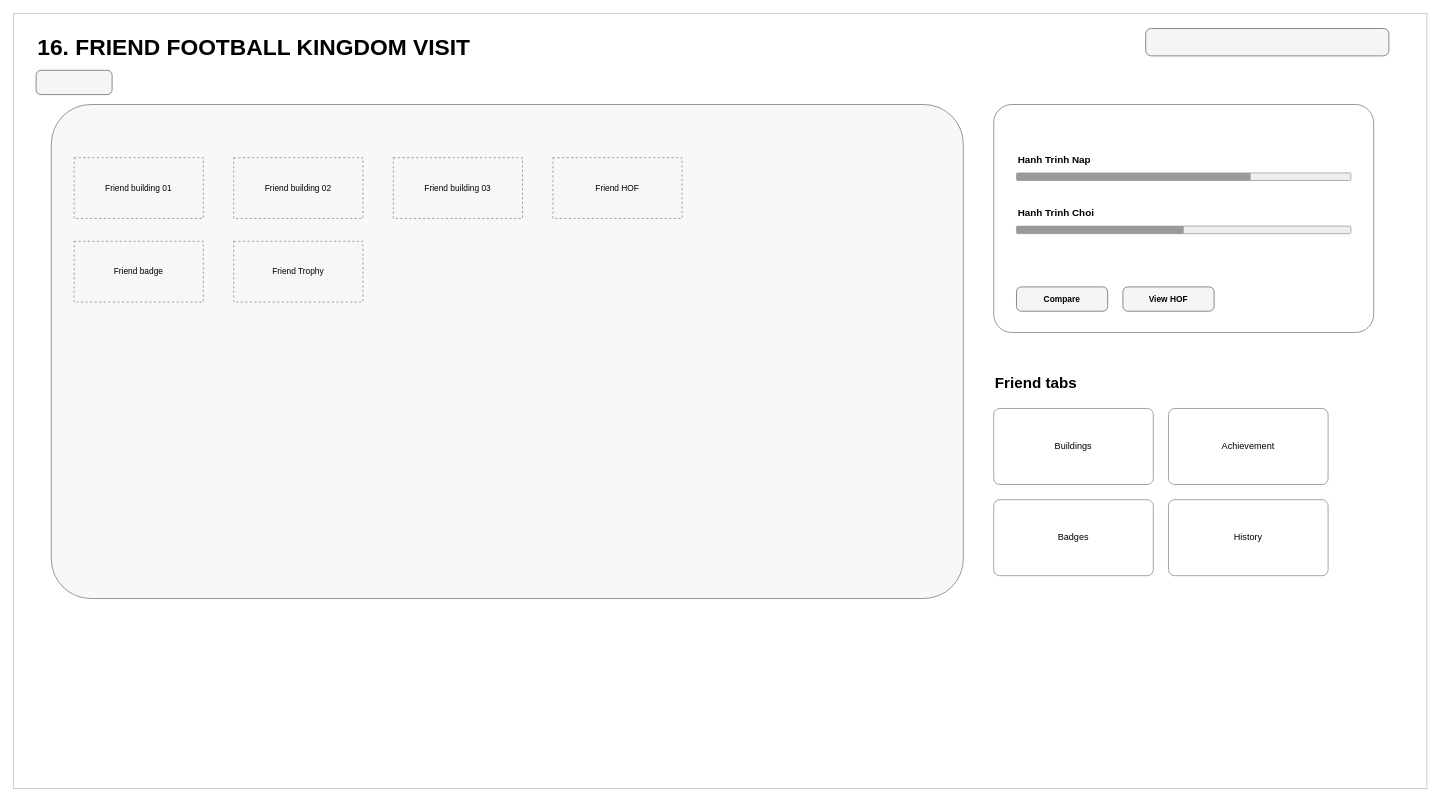
The diagram is 1440 pixels wide and 802 high, and some of its shapes have lost their labels. The box of each missing label's shape, as (x1, y1, x2, y2) in pixels:
Friend Profile Summary: (993, 104, 1374, 332)
Khu Phuc Hop Ban Be - read-only visit mode: (51, 104, 963, 598)
Resource / User: (1145, 28, 1389, 56)
← Quay lai: (35, 70, 112, 95)
